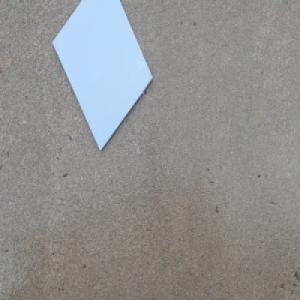PaintChip: (51, 0, 154, 153)
